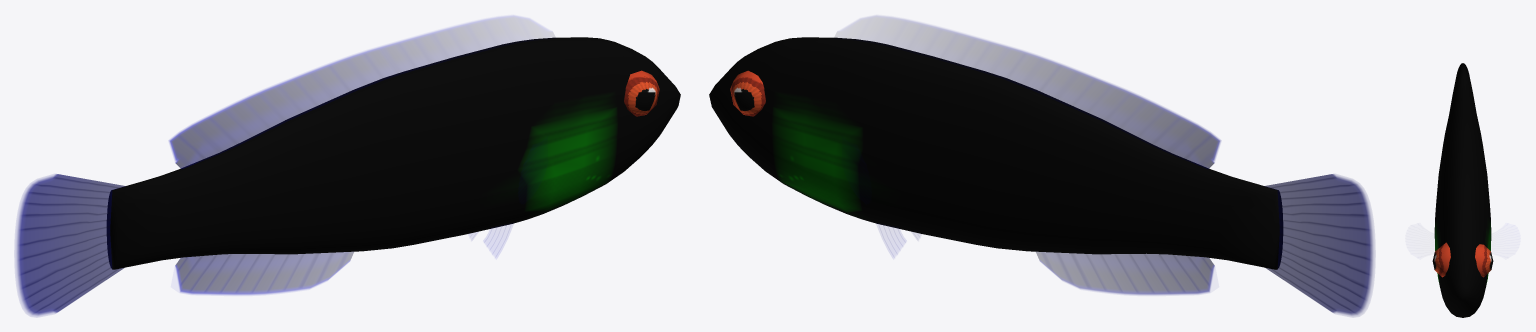
The model's file is sixline_wrasse_lod1.glb.
The picture shows the model from 3 angles, left to right: view 1: azimuth 30°, elevation 25°; view 2: azimuth 150°, elevation 25°; view 3: azimuth 270°, elevation 25°; orthographic projection. The views are drawn at different scales.
Parts seen in each view (by area): view 1: Body, FinDorsal, FinCaudal, FinAnal, EyeR; view 2: Body, FinDorsal, FinCaudal, FinAnal, EyeL; view 3: Body, EyeR, EyeL.
Boxes of the visible parts, bbox=[...] form: Body: bbox=[107, 37, 680, 269]; FinDorsal: bbox=[169, 16, 551, 168]; FinCaudal: bbox=[15, 174, 125, 316]; FinAnal: bbox=[175, 252, 353, 294]; EyeR: bbox=[624, 70, 659, 116]; Body: bbox=[709, 37, 1282, 269]; FinDorsal: bbox=[838, 16, 1220, 168]; FinCaudal: bbox=[1264, 174, 1374, 316]; FinAnal: bbox=[1036, 252, 1214, 294]; EyeL: bbox=[730, 70, 765, 116]; Body: bbox=[1434, 63, 1491, 317]; EyeR: bbox=[1432, 242, 1450, 277]; EyeL: bbox=[1475, 244, 1493, 277].
Bounding box in the file's own units: 1 × 0.3357 × 0.2099.
Materials: 4 (3 with a texture image).
